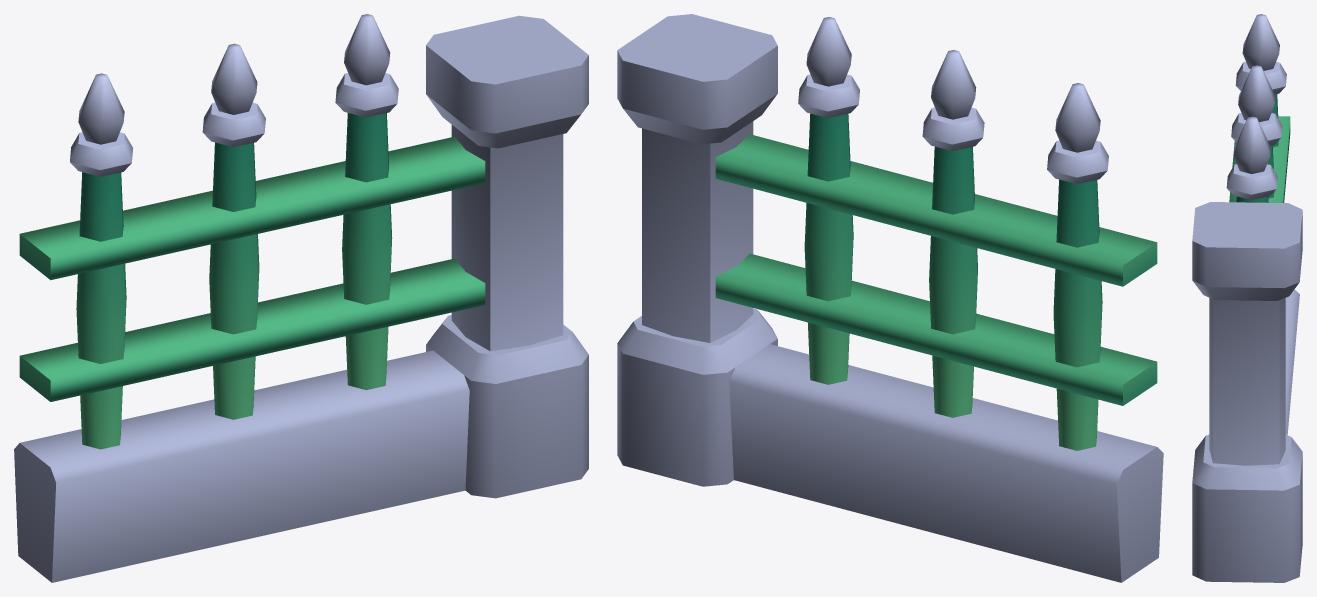
Rendered from iron-fence-border-column.004_lev2.glb.
3 renders of one model, left to right at view 1: azimuth 30°, elevation 25°; view 2: azimuth 150°, elevation 25°; view 3: azimuth 270°, elevation 25°, orthographic. The views are drawn at different scales.
Visible parts, largest first — view 1: iron-fence-border-column.004_lev2; view 2: iron-fence-border-column.004_lev2; view 3: iron-fence-border-column.004_lev2.
Part boxes in pixels (left/top/right/bottom): iron-fence-border-column.004_lev2: left=14, top=14, right=588, bottom=582; iron-fence-border-column.004_lev2: left=617, top=14, right=1163, bottom=582; iron-fence-border-column.004_lev2: left=1192, top=14, right=1302, bottom=582.
Bounding box in the file's own units: 8.04 × 7.03 × 1.82.
1 material, 1 textured.
